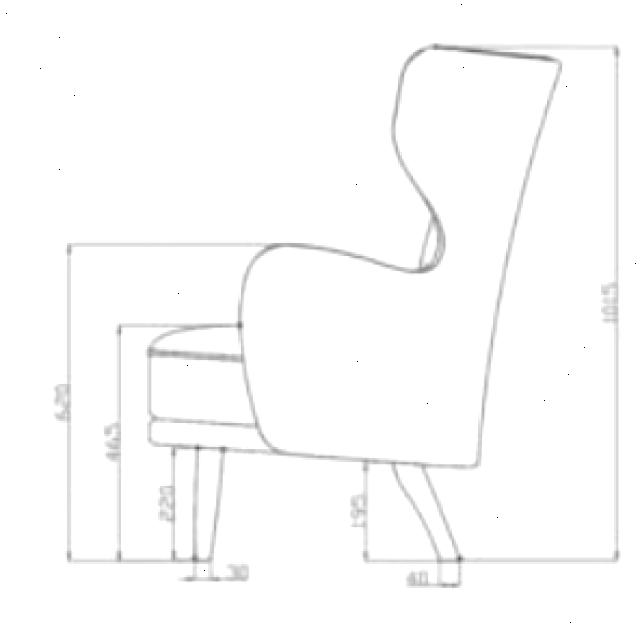Armrest: (233, 238, 512, 474)
Leg_Structure: (166, 439, 466, 592)
Seat: (143, 317, 263, 433)
Wing_Flange: (389, 38, 569, 270)
